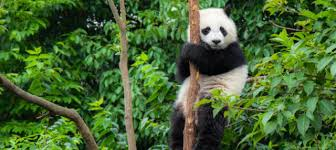panda: (152, 4, 257, 149)
